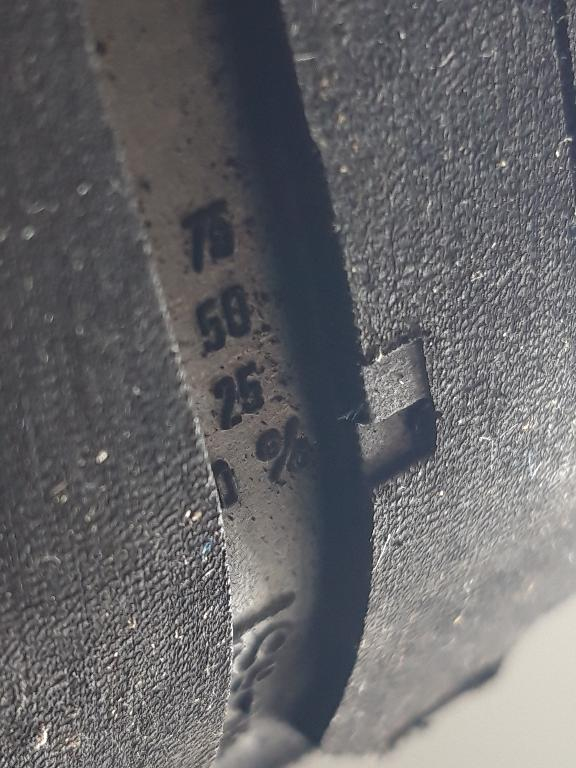temoin:25: (307, 314, 468, 512)
